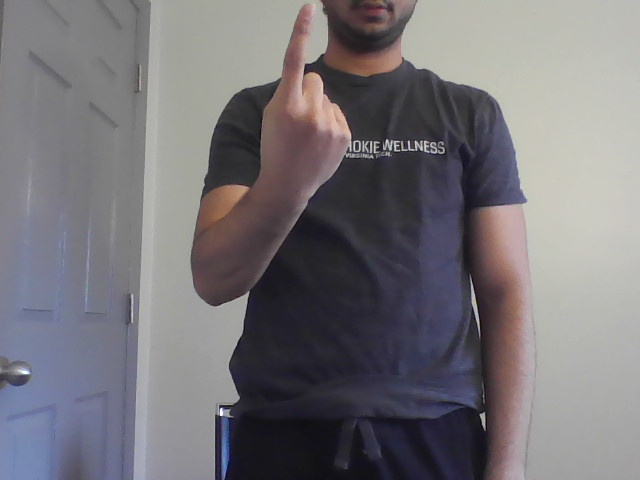one: (254, 2, 357, 176)
